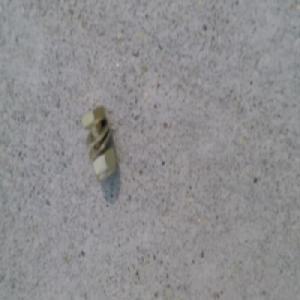BoltNutSet: (81, 105, 117, 182)
